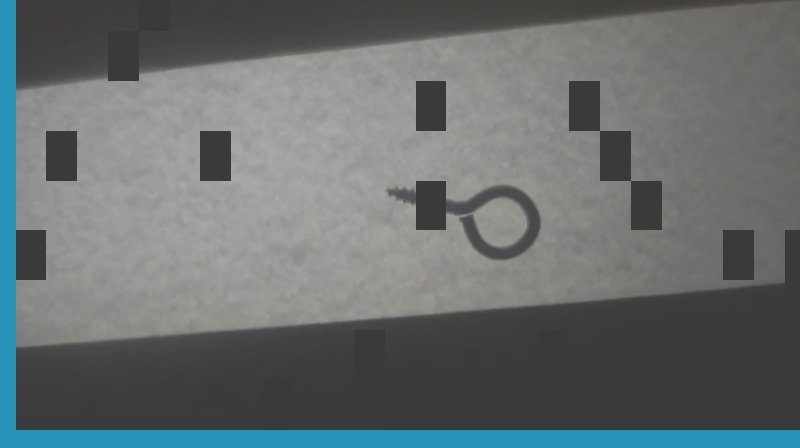O001: (382, 183, 543, 262)
